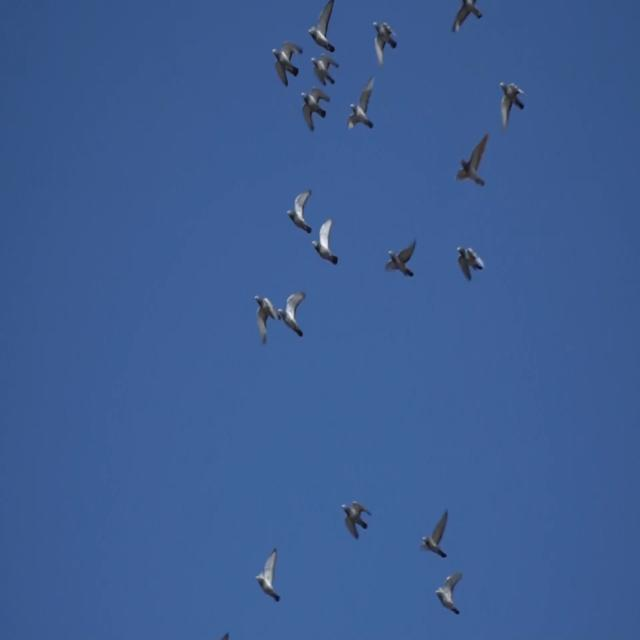bird: (454, 130, 490, 190), (342, 72, 376, 134), (270, 40, 304, 90), (498, 79, 527, 137), (299, 85, 331, 135), (307, 0, 336, 54), (420, 508, 450, 560), (276, 290, 307, 340), (383, 235, 417, 280), (254, 544, 279, 604), (311, 216, 340, 267), (434, 568, 463, 618), (254, 295, 282, 346), (372, 18, 398, 71), (340, 501, 374, 540), (285, 188, 313, 235), (455, 244, 486, 284), (449, 0, 483, 35), (310, 55, 340, 86)
